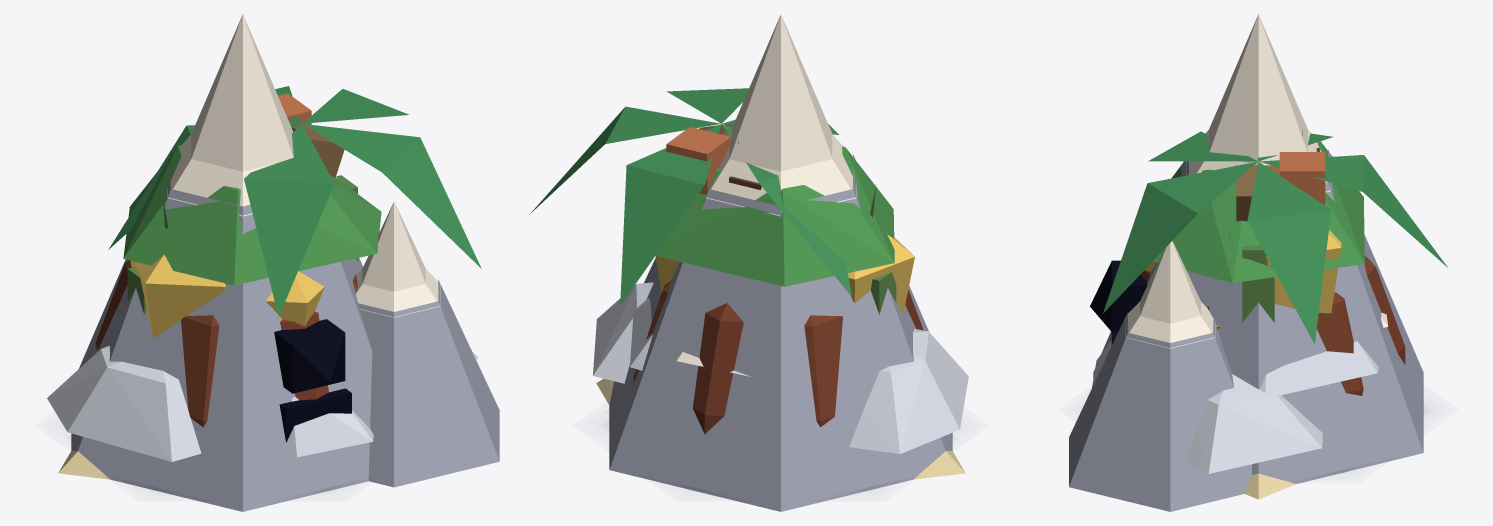
Rendered from props.glb.
The picture shows the model from 3 angles, left to right: view 1: azimuth 30°, elevation 25°; view 2: azimuth 150°, elevation 25°; view 3: azimuth 270°, elevation 25°; orthographic projection. The views are drawn at different scales.
Visible parts, largest first — view 1: prop_peak, prop_palm, prop_round_tree, fog_cloud, prop_kiln, prop_wheat, prop_sheep, prop_dune, prop_cactus; view 2: prop_peak, prop_round_tree, prop_palm, fog_cloud, prop_kiln, prop_wheat, prop_dune, prop_cactus; view 3: prop_peak, prop_palm, fog_cloud, prop_round_tree, prop_kiln, prop_sheep, prop_cactus, prop_wheat, prop_dune.
Part boxes in pixels (bbox=[...]): prop_peak: bbox=[71, 14, 499, 511]; prop_palm: bbox=[108, 86, 481, 316]; prop_round_tree: bbox=[123, 145, 381, 285]; fog_cloud: bbox=[47, 346, 478, 461]; prop_kiln: bbox=[95, 93, 357, 442]; prop_wheat: bbox=[130, 177, 337, 338]; prop_sheep: bbox=[274, 319, 345, 393]; prop_dune: bbox=[58, 451, 110, 479]; prop_cactus: bbox=[127, 175, 357, 314]; prop_peak: bbox=[609, 14, 952, 511]; prop_round_tree: bbox=[655, 146, 894, 286]; prop_palm: bbox=[530, 88, 851, 305]; fog_cloud: bbox=[593, 282, 968, 453]; prop_kiln: bbox=[633, 127, 923, 434]; prop_wheat: bbox=[655, 234, 914, 314]; prop_dune: bbox=[596, 378, 965, 479]; prop_cactus: bbox=[870, 272, 896, 314]; prop_peak: bbox=[1069, 14, 1423, 511]; prop_palm: bbox=[1103, 131, 1447, 344]; fog_cloud: bbox=[1092, 340, 1378, 473]; prop_round_tree: bbox=[1153, 141, 1364, 283]; prop_kiln: bbox=[1111, 152, 1405, 395]; prop_sheep: bbox=[1090, 260, 1388, 331]; prop_cactus: bbox=[1242, 245, 1274, 322]; prop_wheat: bbox=[1144, 229, 1341, 313]; prop_dune: bbox=[1244, 473, 1295, 499].
Size of the model in its own units: 0.3092 by 0.316 by 0.3.
